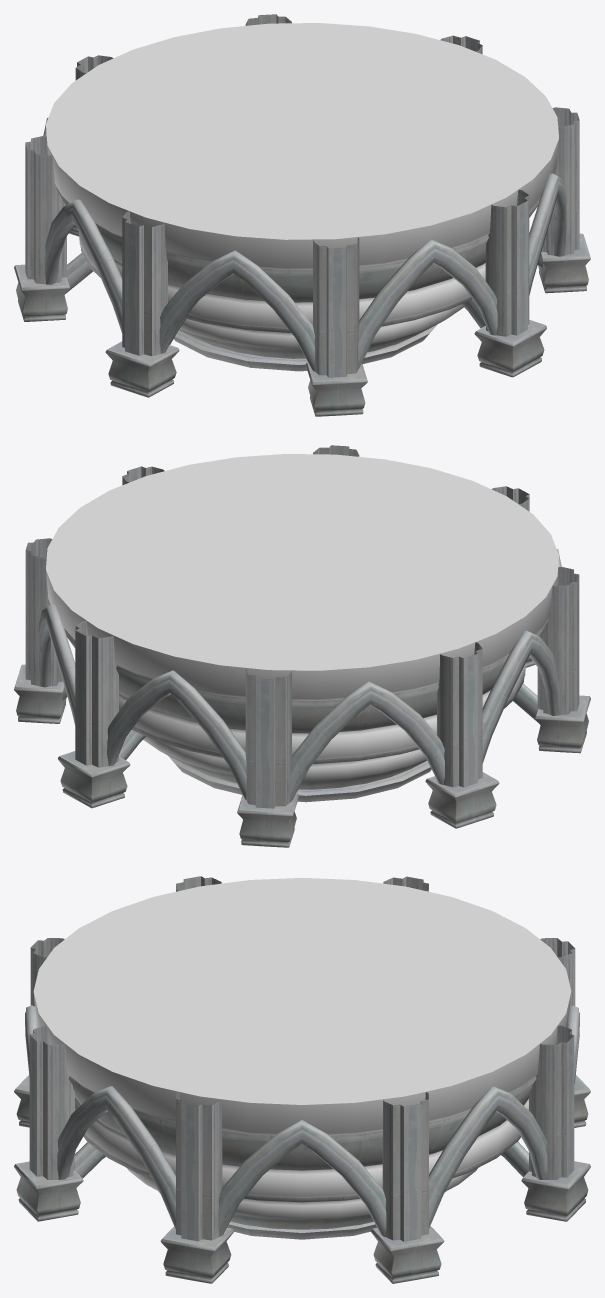
Rendered from SM_TowerB_Overhang.fbx.
The picture shows the model from 3 angles, top to bottom: view 1: azimuth 30°, elevation 25°; view 2: azimuth 150°, elevation 25°; view 3: azimuth 270°, elevation 25°; orthographic projection. The views are drawn at different scales.
Parts seen in each view (by area): view 1: SM_TowerB_Overhang_LOD0; view 2: SM_TowerB_Overhang_LOD0; view 3: SM_TowerB_Overhang_LOD0.
Boxes of the visible parts, left/top/right/bottom form: SM_TowerB_Overhang_LOD0: left=14, top=14, right=590, bottom=416; SM_TowerB_Overhang_LOD0: left=14, top=445, right=590, bottom=847; SM_TowerB_Overhang_LOD0: left=14, top=876, right=590, bottom=1283.
Size of what is drawn, in the model's own units: 8.58 by 3.07 by 8.58.
